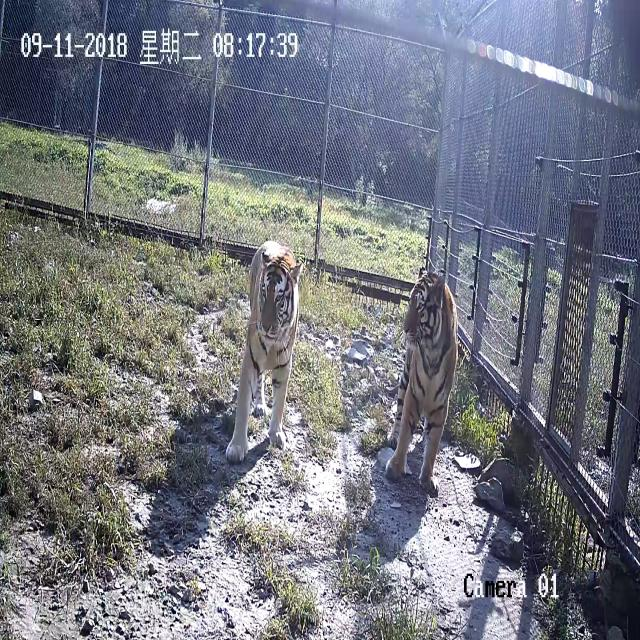Tiger: (219, 231, 315, 479), (377, 246, 463, 510)
